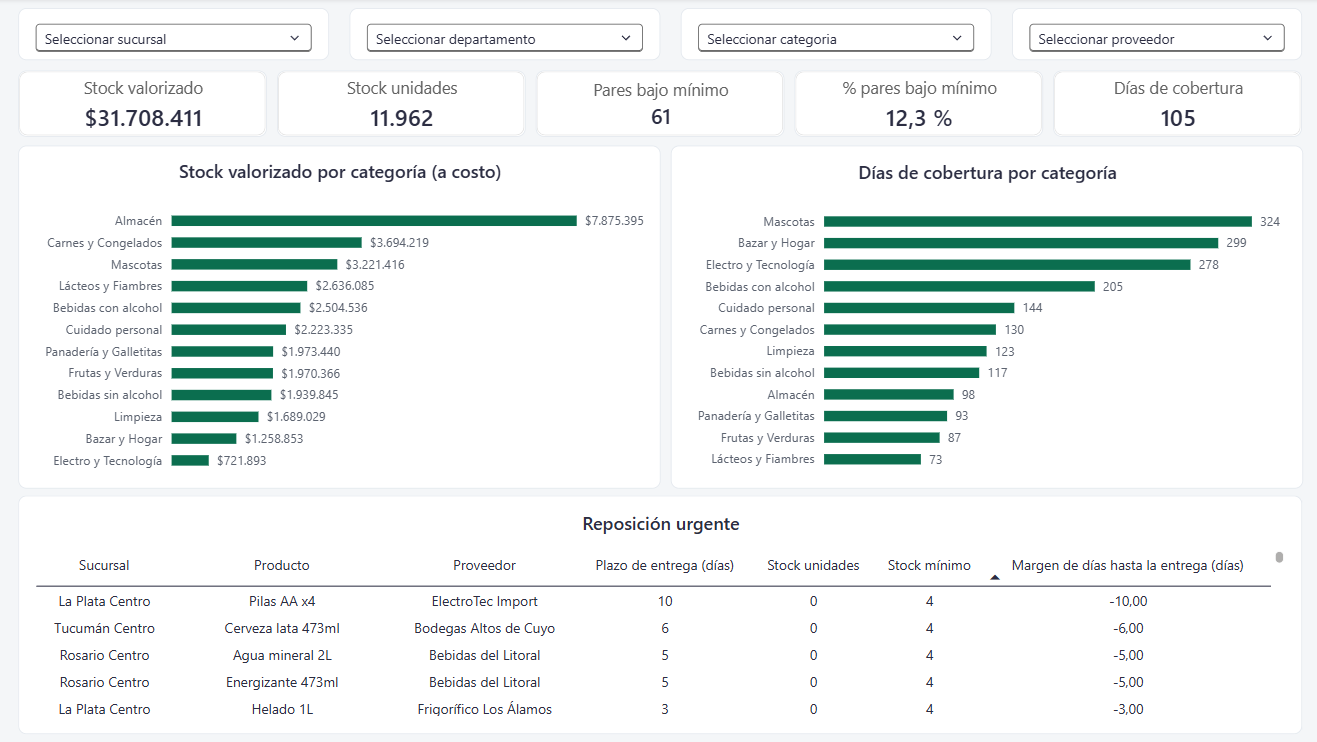

Layout of this report page (visuals, bound fields, positions):
{"tool":"powerbi","page":{"name":"Inventario","canvas":[1280,720],"ordinal":1},"visuals":[{"type":"listSlicer","fields":{"Values":["dim_sucursal.sucursal"]},"box":[20,10,300,50],"z":0},{"type":"listSlicer","fields":{"Values":["dim_producto.departamento"]},"box":[340,10,300,50],"z":1000},{"type":"listSlicer","fields":{"Values":["dim_producto.categoria"]},"box":[660,10,300,50],"z":2000},{"type":"listSlicer","fields":{"Values":["dim_producto.proveedor"]},"box":[980,10,280,50],"z":3000},{"type":"cardVisual","fields":{"Data":["_Medidas.Stock valorizado"]},"box":[20,70,240,64],"z":4000},{"type":"cardVisual","fields":{"Data":["_Medidas.Stock unidades"]},"box":[270,70,240,64],"z":5000},{"type":"cardVisual","fields":{"Data":["_Medidas.Pares bajo mínimo"]},"box":[520,70,240,64],"z":6000},{"type":"cardVisual","fields":{"Data":["_Medidas.% pares bajo mínimo"]},"box":[770,70,240,64],"z":7000},{"type":"cardVisual","fields":{"Data":["_Medidas.Días de cobertura"]},"box":[1020,70,240,64],"z":8000},{"type":"clusteredBarChart","title":"Stock valorizado por categoría (a costo)","fields":{"Category":["dim_producto.categoria"],"Y":["_Medidas.Stock valorizado"]},"box":[20,142,620,331],"z":9000},{"type":"clusteredBarChart","title":"Días de cobertura por categoría","fields":{"Category":["dim_producto.categoria"],"Y":["_Medidas.Días de cobertura"]},"box":[650,142,610,331],"z":10000},{"type":"tableEx","title":"Reposición urgente","fields":{"Values":["dim_sucursal.sucursal","dim_producto.producto","dim_producto.proveedor","dim_producto.plazo_entrega_dias","_Medidas.Stock unidades","_Medidas.Stock mínimo","_Medidas.Cobertura menos plazo (días)"]},"box":[20.5,480,1239,230],"z":11000}]}

Visuals, with their boxes in screenshot pixels (x1, y1, x2, y2), scaled from the page's 1280x720 canvas onto the 1317x742 screenshot:
listSlicer - dim_sucursal.sucursal: bbox=(21, 10, 329, 62)
listSlicer - dim_producto.departamento: bbox=(350, 10, 658, 62)
listSlicer - dim_producto.categoria: bbox=(679, 10, 988, 62)
listSlicer - dim_producto.proveedor: bbox=(1008, 10, 1296, 62)
cardVisual - _Medidas.Stock valorizado: bbox=(21, 72, 268, 138)
cardVisual - _Medidas.Stock unidades: bbox=(278, 72, 525, 138)
cardVisual - _Medidas.Pares bajo mínimo: bbox=(535, 72, 782, 138)
cardVisual - _Medidas.% pares bajo mínimo: bbox=(792, 72, 1039, 138)
cardVisual - _Medidas.Días de cobertura: bbox=(1049, 72, 1296, 138)
"Stock valorizado por categoría (a costo)" clusteredBarChart: bbox=(21, 146, 658, 487)
"Días de cobertura por categoría" clusteredBarChart: bbox=(669, 146, 1296, 487)
"Reposición urgente" tableEx: bbox=(21, 495, 1296, 732)
